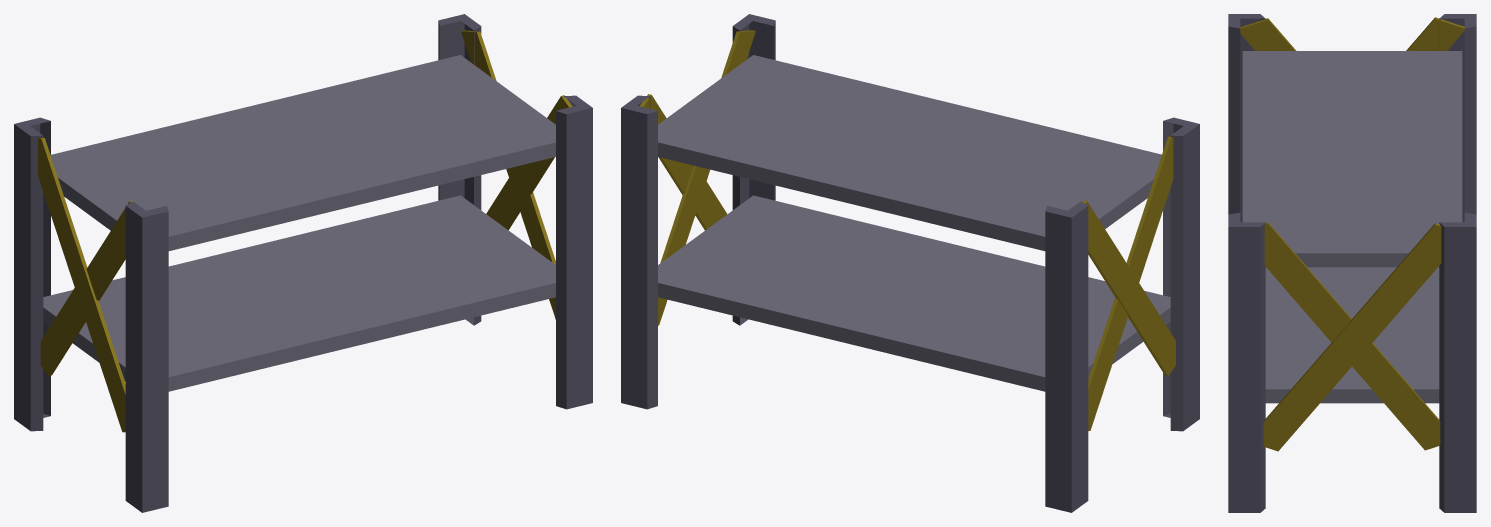
Rendered from ShelfStorage1.fbx.
The picture shows the model from 3 angles, left to right: view 1: azimuth 30°, elevation 25°; view 2: azimuth 150°, elevation 25°; view 3: azimuth 270°, elevation 25°; orthographic projection. The views are drawn at different scales.
Visible parts, largest first — view 1: ShelfStorage1; view 2: ShelfStorage1; view 3: ShelfStorage1.
Boxes of the visible parts, box(x1,y1,x2,y2) form: ShelfStorage1: box(14, 14, 592, 512); ShelfStorage1: box(621, 14, 1199, 512); ShelfStorage1: box(1228, 14, 1476, 512).
Size of the model in its own units: 92.14 by 57.68 by 45.41.
